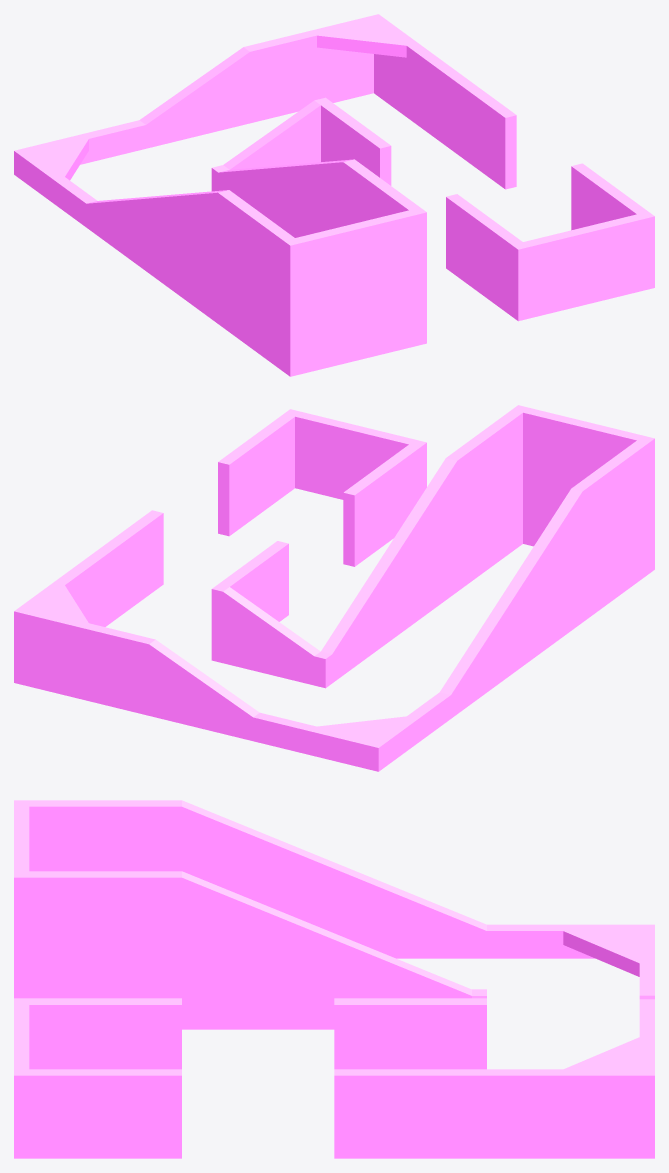
File: Hole 3 Trim.glb
The picture shows the model from 3 angles, top to bottom: view 1: azimuth 30°, elevation 25°; view 2: azimuth 150°, elevation 25°; view 3: azimuth 270°, elevation 25°; orthographic projection. The views are drawn at different scales.
Visible parts, largest first — view 1: Hole 3 Trim; view 2: Hole 3 Trim; view 3: Hole 3 Trim.
Part boxes in pixels (x1,y1,x2,y2): Hole 3 Trim: (14,14,654,376); Hole 3 Trim: (14,405,654,771); Hole 3 Trim: (14,800,654,1158).
Size of what is drawn, in the model's own units: 6.4 by 2.2 by 8.4.
